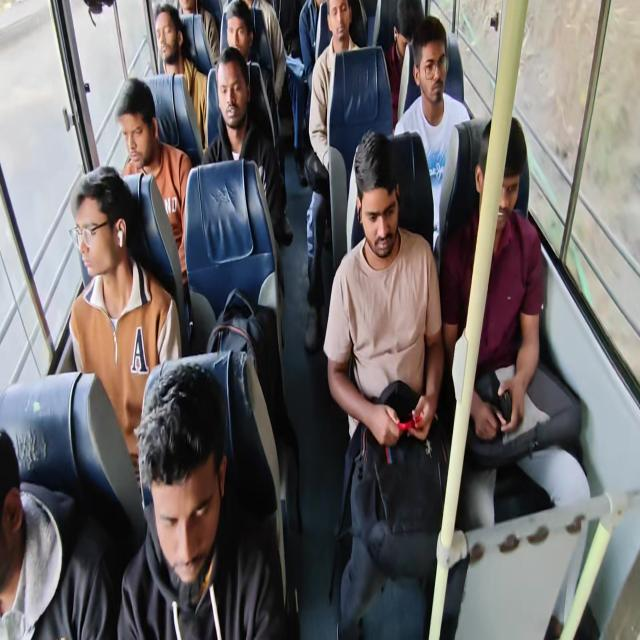person: (439, 115, 591, 635), (323, 128, 469, 638), (116, 359, 286, 638), (68, 165, 182, 502), (0, 428, 116, 638), (303, 0, 363, 352), (392, 15, 472, 256), (201, 46, 293, 246), (114, 77, 192, 287), (308, 0, 362, 172), (154, 3, 208, 147), (220, 0, 273, 106), (385, 0, 424, 128), (298, 0, 332, 128), (177, 0, 220, 66)
